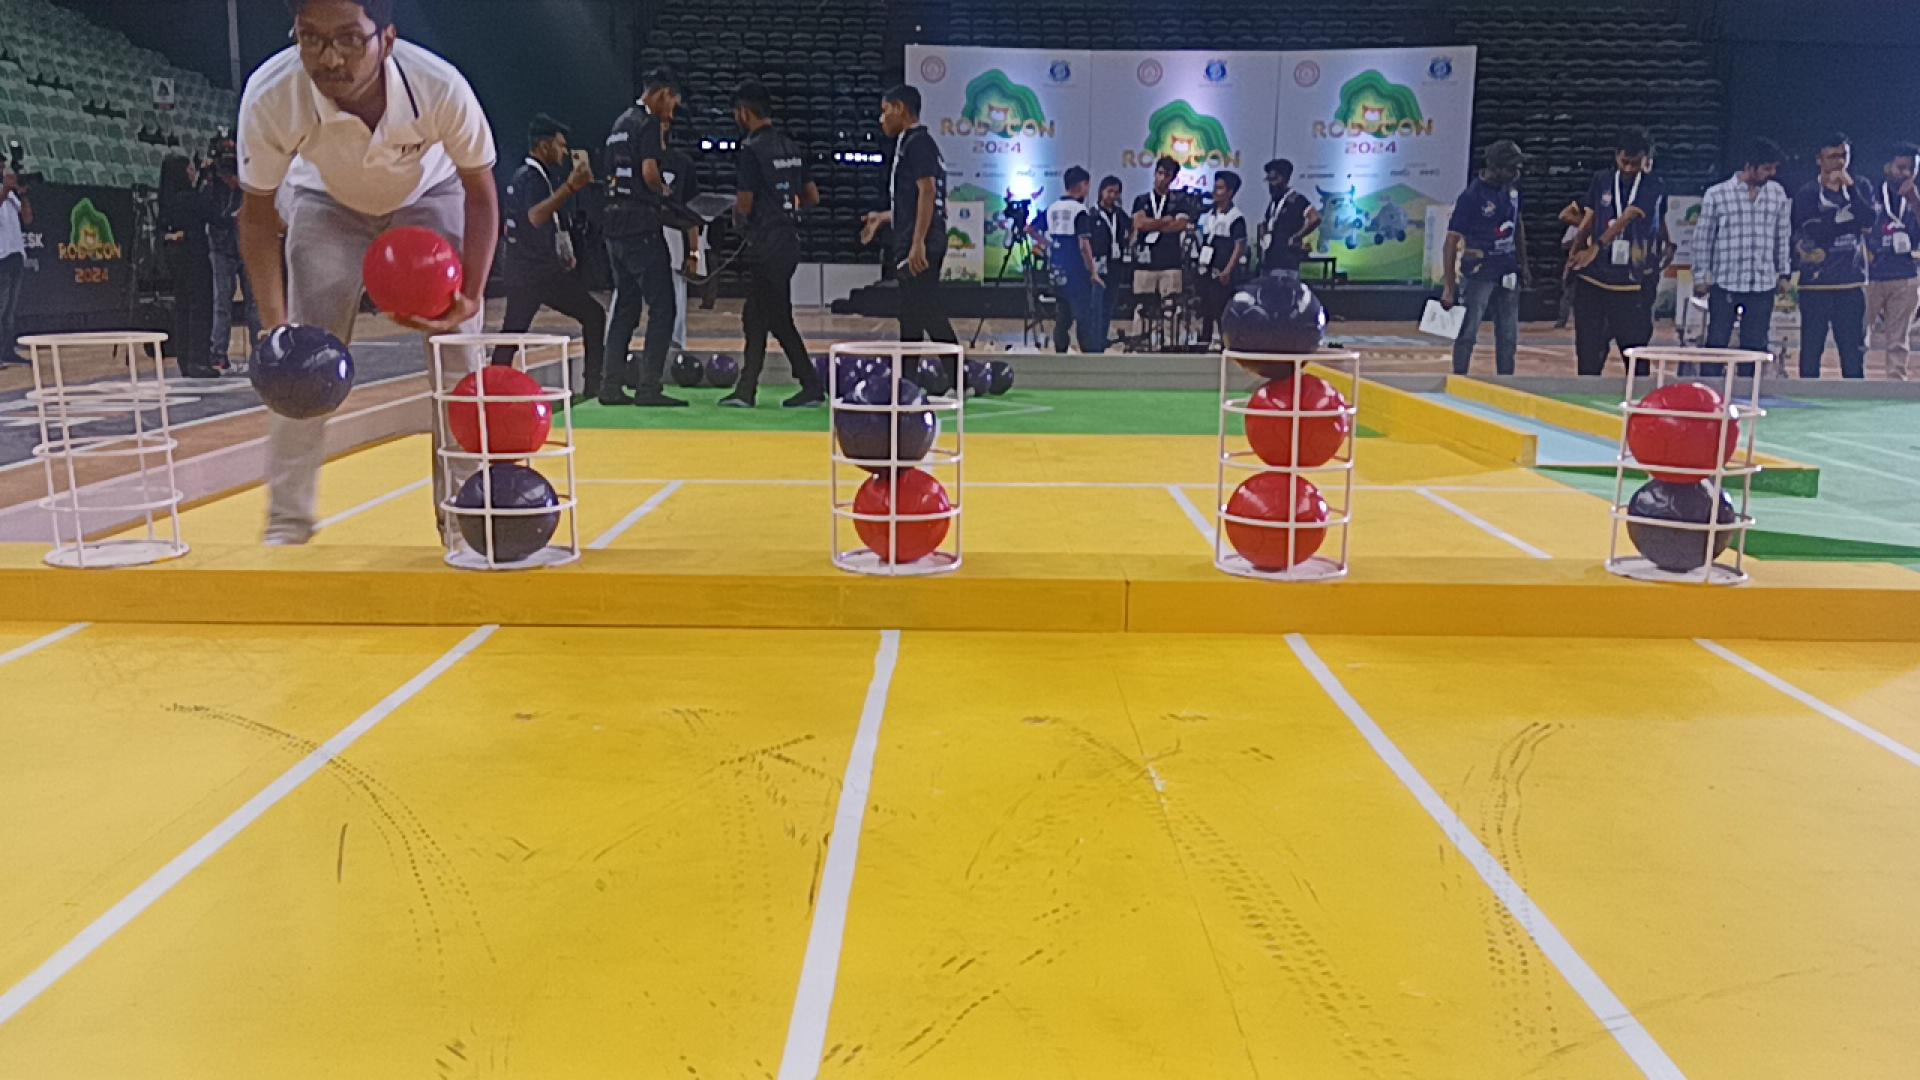dhoka: (1218, 270, 1328, 378), (454, 462, 559, 563), (832, 372, 938, 468), (1627, 480, 1737, 572)
laale: (1627, 386, 1741, 481), (1226, 472, 1328, 570), (1245, 375, 1350, 468), (852, 468, 952, 563), (446, 364, 551, 452)
